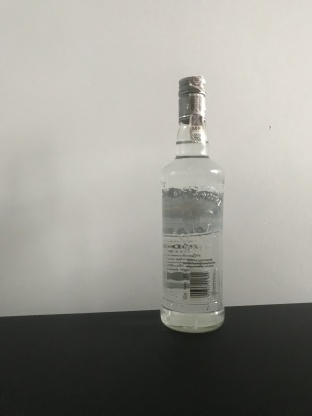nakretka: (176, 72, 207, 124)
